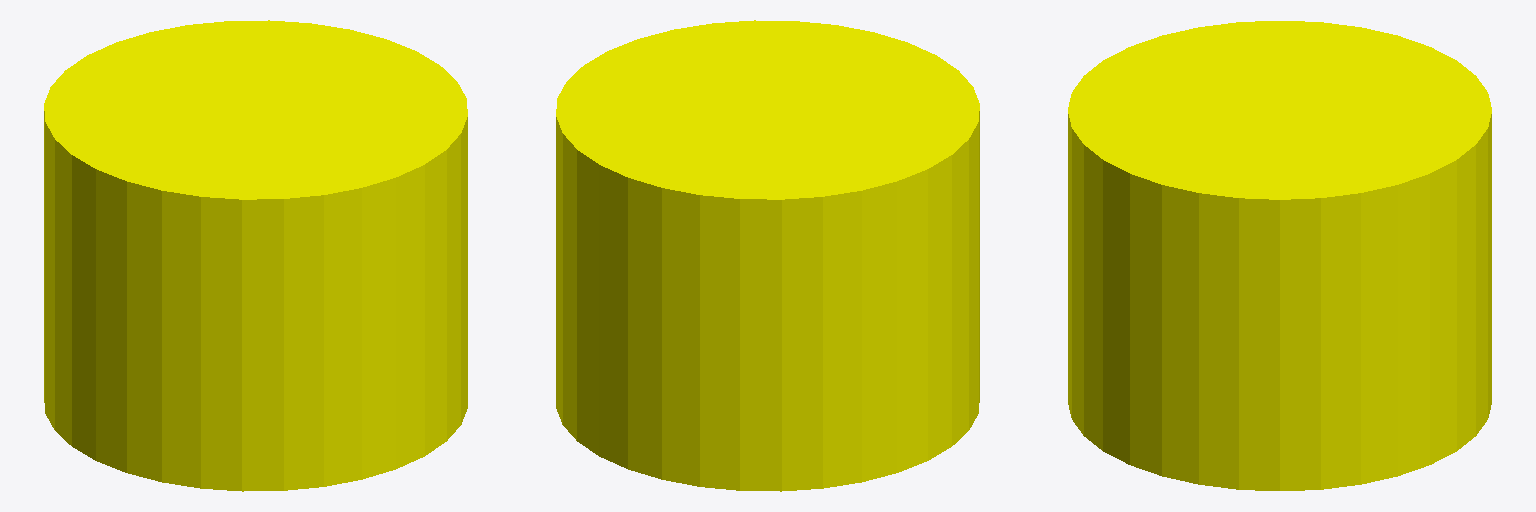
robot.urdf — rod.urdf:
<?xml version="0.0" ?>
<robot name="rod.urdf">

<link name="baseLink">
    <contact>
      <lateral_friction value=".3"/>
      <inertia_scaling value="3.0"/>
    </contact>
	<visual>
    <origin xyz="0 0 0" rpy="0 0 0"/>
    <geometry>
      <cylinder radius="0.033" length="0.05"/>
    </geometry>
    <material name="yellow">
        <color rgba="1 1 0 1"/>
      </material>
  </visual>
  <collision>
    <origin xyz="0.0 0 0" rpy="0 0 0"/>
    <geometry>
      <!-- tolerance: 1.5cm -->
      <cylinder radius="0.033" length="0.07"/>
      <!-- tolerance:: .25cm -->
      <!--<cylinder radius="0.01875" length="0.07"/>-->
      <!-- tolerance: .5cm -->
      <!--<cylinder radius="0.0175" length="0.07"/>-->
    </geometry>
  </collision>
  <inertial>
    <mass value="0.03"/>
    <origin rpy="0 0 0" xyz="0.0 0.0 0.0"/>
    <inertia ixx="0.000526462289415" ixy="0.0" ixz="0.0" iyy="0.000526462289415" iyz="0.0" izz="0.000568125"/>
    <!-- <inertia ixx="1" ixy="0.0" ixz="0.0" iyy="1" iyz="0.0" izz="1"/> -->
  </inertial>
</link>

</robot>

--- What the picture shows (computed from the rendered views, not written in the file) ---
3 views of the same robot in one strip: view 1: azimuth 30°, elevation 25°; view 2: azimuth 150°, elevation 25°; view 3: azimuth 270°, elevation 25° (orthographic).
Robot: rod.urdf — 1 links, 0 joints (none); root link baseLink; default pose: every joint at zero.
Visible links, largest first — view 1: baseLink; view 2: baseLink; view 3: baseLink.
Boxes of the visible links, <box> form: baseLink: <box>44,20,467,491</box>; baseLink: <box>556,20,979,491</box>; baseLink: <box>1068,21,1491,490</box>.
Bounding box of the posed robot: 0.066 × 0.066 × 0.05 m (x, y, z).
Geometry: primitives only (box / cylinder / sphere), no mesh files.